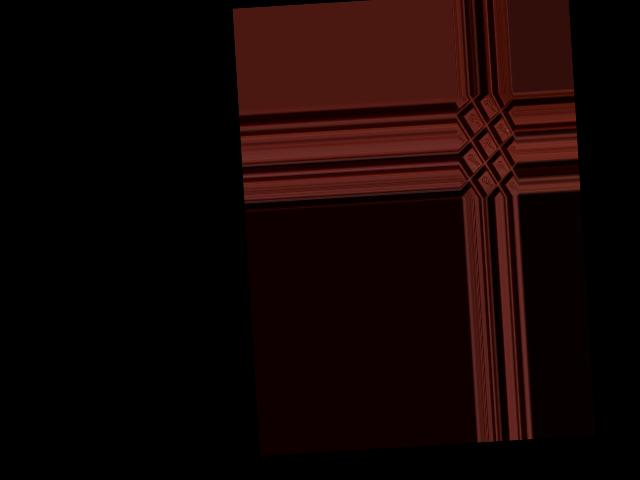chocolate: (454, 92, 517, 196)
